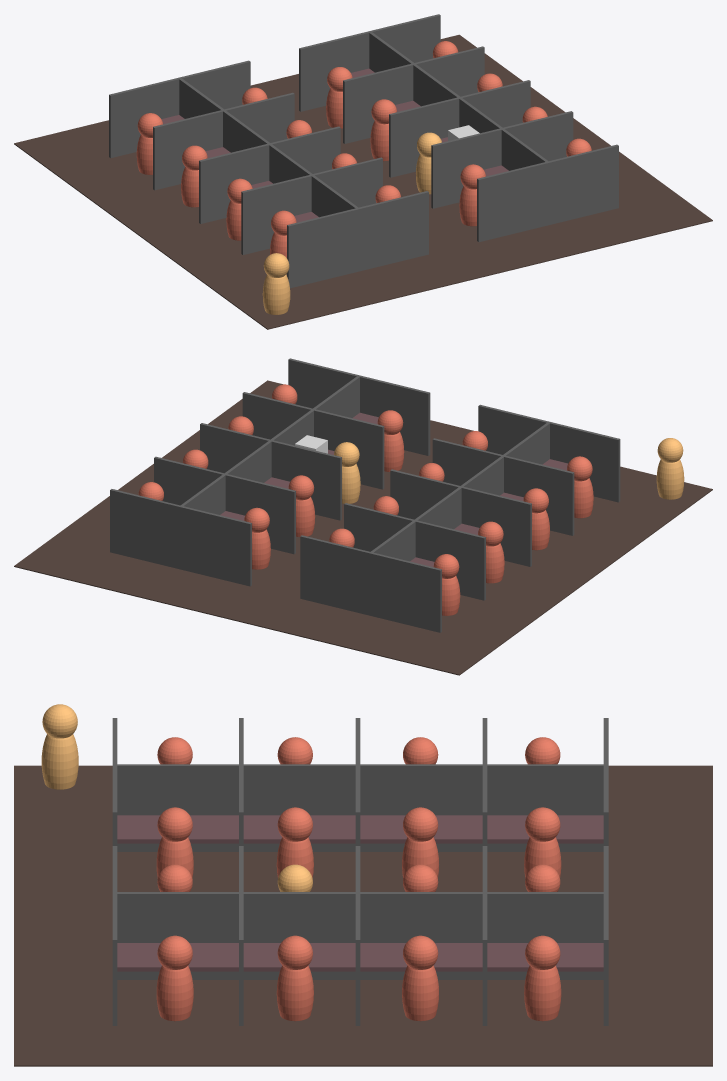
File: office.67e76b27.glb
The picture shows the model from 3 angles, top to bottom: view 1: azimuth 30°, elevation 25°; view 2: azimuth 150°, elevation 25°; view 3: azimuth 270°, elevation 25°; orthographic projection. The views are drawn at different scales.
Parts seen in each view (by area): view 1: 큐브.027, 큐브.008, 큐브.007, 큐브.011, 큐브.004, 큐브.009, 큐브.006, 큐브.003, 큐브.012, 큐브.005, 큐브.010, 큐브.002 (+10 smaller); view 2: 큐브.027, 큐브.003, 큐브.012, 큐브.005, 큐브.010, 큐브.007, 큐브.008, 큐브.006, 큐브.009, 큐브.004, 큐브.011, 큐브.002 (+10 smaller); view 3: 큐브.027, 큐브.002, 큐브.013, Player1, 구체.013, 구체.016, 구체.015, 구체.014, 큐브.018, 큐브.015, 큐브.020, 큐브.001 (+26 smaller).
Part boxes in pixels (x1,y1,x2,y2): 큐브.027: (14, 34, 712, 329); 큐브.008: (477, 144, 618, 242); 큐브.007: (287, 191, 428, 288); 큐브.011: (431, 111, 573, 208); 큐브.004: (241, 157, 382, 254); 큐브.009: (343, 46, 484, 143); 큐브.006: (153, 92, 294, 190); 큐브.003: (109, 60, 250, 158); 큐브.012: (299, 14, 440, 111); 큐브.005: (199, 126, 340, 223); 큐브.010: (389, 80, 530, 177); 큐브.002: (179, 78, 359, 217); 큐브.027: (14, 380, 712, 675); 큐브.003: (300, 535, 441, 632); 큐브.012: (110, 489, 251, 586); 큐브.005: (390, 469, 531, 566); 큐브.010: (200, 423, 341, 520); 큐브.007: (478, 404, 620, 502); 큐브.008: (288, 358, 430, 455); 큐브.006: (344, 503, 485, 600); 큐브.009: (154, 456, 295, 554); 큐브.004: (432, 438, 574, 535); 큐브.011: (242, 392, 384, 489); 큐브.002: (371, 421, 550, 561); 큐브.027: (14, 765, 712, 1066); 큐브.002: (113, 764, 605, 851); 큐브.013: (117, 892, 603, 979); Player1: (41, 704, 78, 789); 구체.013: (524, 935, 561, 1021); 구체.016: (156, 935, 193, 1021); 구체.015: (276, 935, 313, 1021); 구체.014: (402, 935, 438, 1021); 큐브.018: (360, 943, 482, 971); 큐브.015: (360, 815, 482, 843); 큐브.020: (117, 943, 238, 971); 큐브.001: (117, 815, 238, 843).
Bounding box in the file's own units: 79.56 × 10.82 × 78.43.
